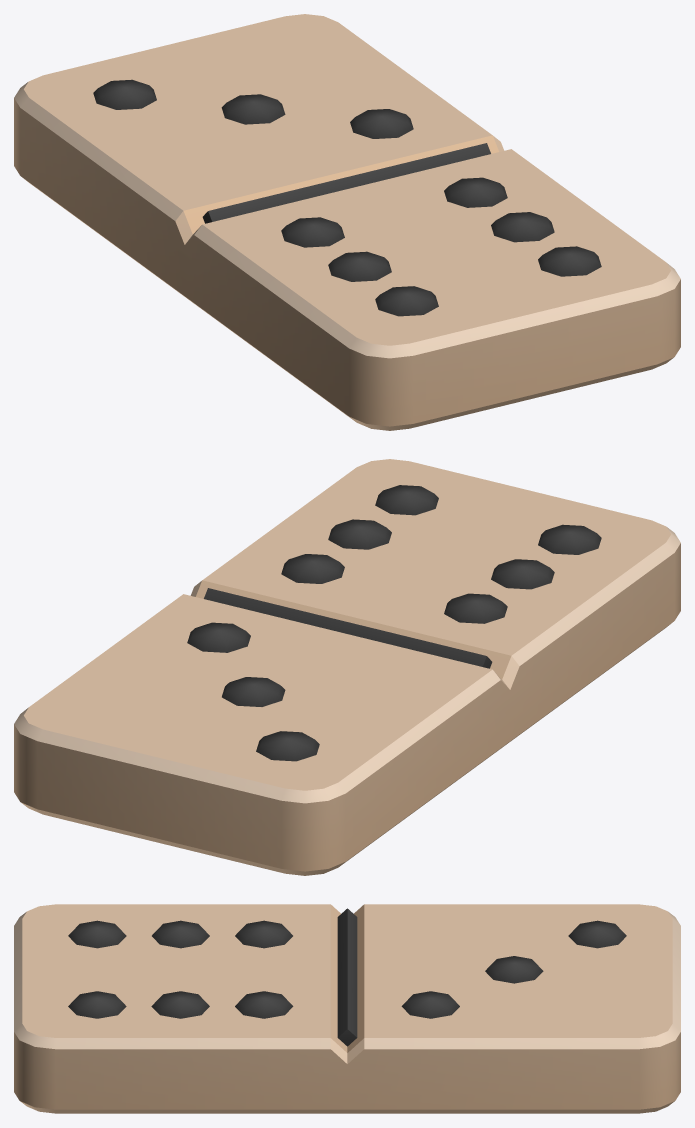
Rendered from domino_tile_3-6.obj.
3 views of the same model, one above another, from view 1: azimuth 30°, elevation 25°; view 2: azimuth 150°, elevation 25°; view 3: azimuth 270°, elevation 25° (orthographic). The views are drawn at different scales.
Visible parts, largest first — view 1: domino_tile_3-6; view 2: domino_tile_3-6; view 3: domino_tile_3-6.
Part boxes in pixels (x1=…): domino_tile_3-6: x1=14, y1=14, x2=680, y2=430; domino_tile_3-6: x1=14, y1=459, x2=680, y2=875; domino_tile_3-6: x1=14, y1=904, x2=680, y2=1113.
Bounding box in the file's own units: 1 × 0.2767 × 2.
Materials: 1 (1 with a texture image).
